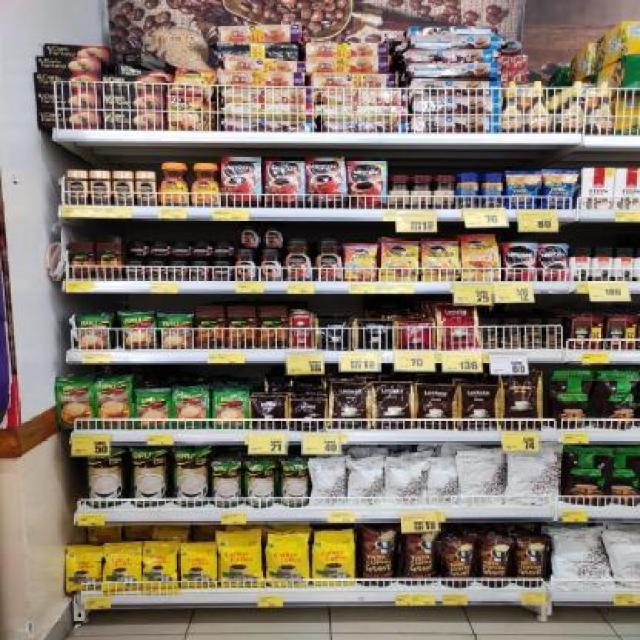Coffee: (265, 161, 304, 208), (221, 157, 259, 205), (308, 159, 346, 207), (349, 160, 387, 208), (461, 235, 499, 279), (421, 239, 459, 280), (381, 240, 417, 281), (167, 93, 201, 131), (158, 163, 188, 206), (191, 163, 219, 207), (503, 243, 535, 281), (344, 243, 376, 280), (314, 240, 342, 281), (285, 240, 313, 281), (541, 244, 569, 280), (66, 171, 88, 205), (259, 249, 281, 280), (136, 172, 156, 206), (92, 170, 110, 204), (114, 171, 132, 205), (238, 222, 260, 248), (237, 249, 255, 280), (263, 223, 283, 249), (126, 238, 149, 258), (123, 260, 145, 279), (173, 239, 192, 258), (216, 240, 235, 259), (169, 261, 188, 280), (213, 261, 233, 279), (152, 238, 170, 257), (195, 240, 213, 259), (148, 260, 166, 279), (191, 261, 209, 279)
